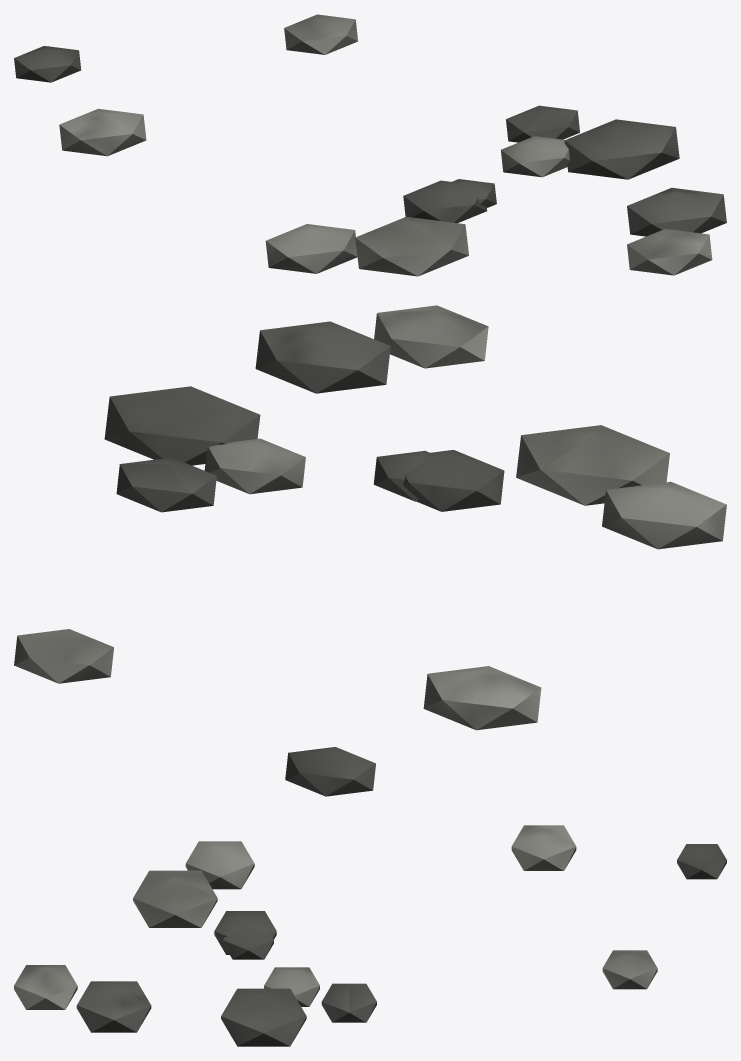
Rendered from SM_StreamRocks03.fbx.
3 renders of one model, top to bottom at view 1: azimuth 30°, elevation 25°; view 2: azimuth 150°, elevation 25°; view 3: azimuth 270°, elevation 25°, orthographic. The views are drawn at different scales.
Visible parts, largest first — view 1: SM_StreamRocks03; view 2: SM_StreamRocks03; view 3: SM_StreamRocks03.
Part boxes in pixels (bbox=[...]): SM_StreamRocks03: bbox=[14, 14, 726, 276]; SM_StreamRocks03: bbox=[14, 305, 726, 796]; SM_StreamRocks03: bbox=[14, 825, 726, 1046].
Size of the model in its own units: 3.01 by 0.1997 by 4.23.
1 material, 1 textured.
